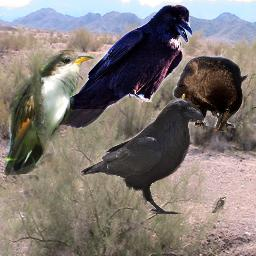Crow: (48, 4, 192, 129), (79, 98, 205, 214), (164, 55, 250, 132)
Cuckoo: (4, 50, 94, 175), (212, 197, 226, 213)
